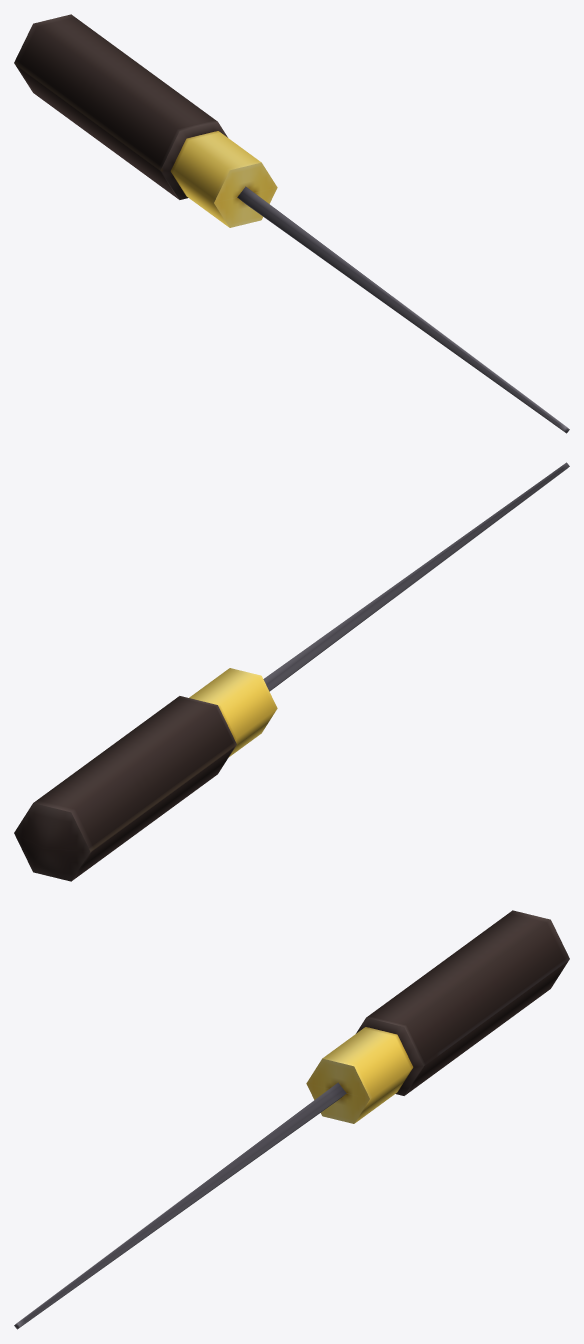
Rendered from jsf_Awl_02.fbx.
3 renders of one model, top to bottom at view 1: azimuth 30°, elevation 25°; view 2: azimuth 150°, elevation 25°; view 3: azimuth 330°, elevation 25°, orthographic.
Parts seen in each view (by area): view 1: jsf_Awl_02; view 2: jsf_Awl_02; view 3: jsf_Awl_02.
Part boxes in pixels (x1=…): jsf_Awl_02: x1=14, y1=14, x2=569, y2=433; jsf_Awl_02: x1=14, y1=462, x2=569, y2=881; jsf_Awl_02: x1=14, y1=910, x2=569, y2=1329.
Bounding box in the file's own units: 1.8 × 1.56 × 21.32.
